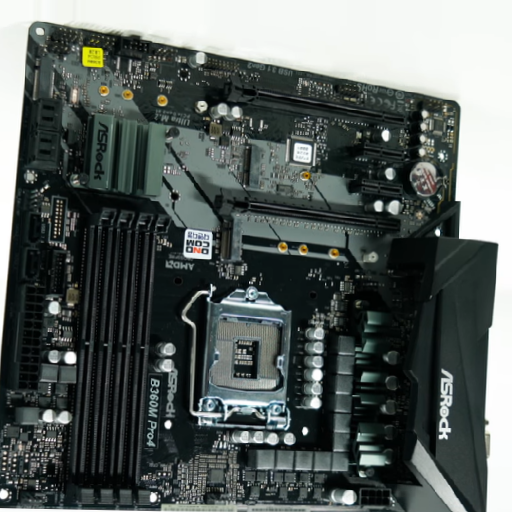CPU: (198, 287, 292, 425)
GPU: (225, 73, 404, 128), (218, 186, 401, 232)
MOTHERBOARD: (1, 21, 459, 512)
RAM: (62, 208, 171, 508)
SSD: (221, 214, 245, 264), (246, 145, 262, 187)
